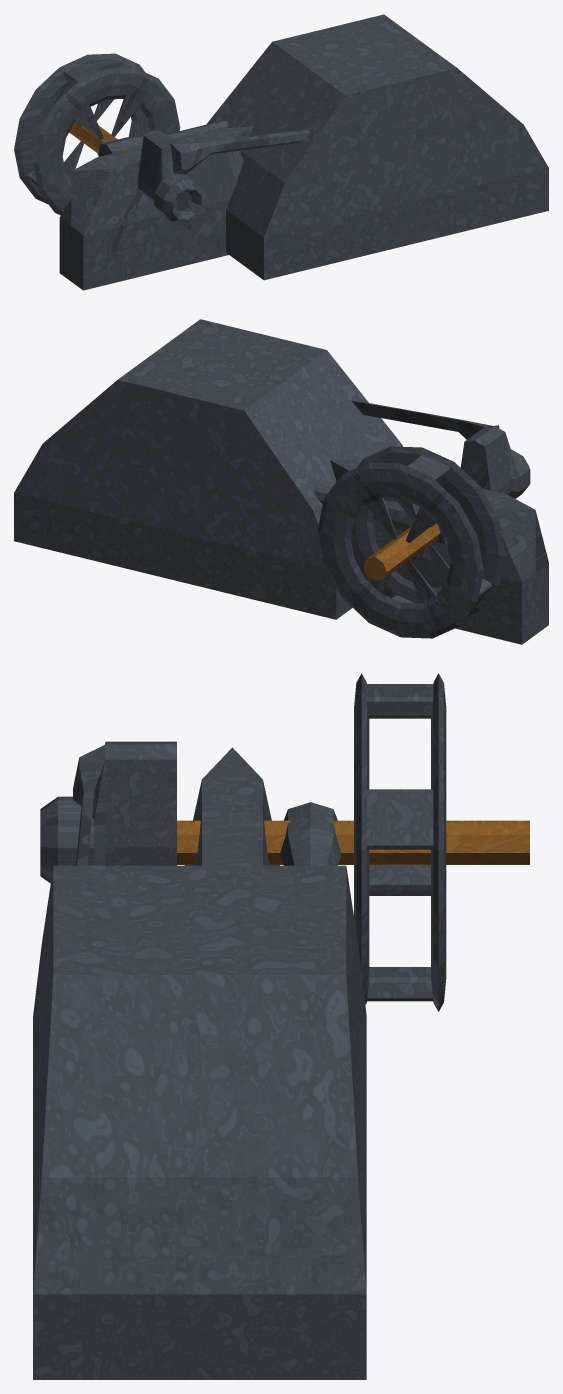
File: steam_machine.fbx
3 renders of one model, top to bottom at view 1: azimuth 30°, elevation 25°; view 2: azimuth 150°, elevation 25°; view 3: azimuth 270°, elevation 25°, orthographic. The views are drawn at different scales.
Parts seen in each view (by area): view 1: Cube.002; view 2: Cube.002; view 3: Cube.002.
Part boxes in pixels (<box>): Cube.002: <box>14,14,548,290</box>; Cube.002: <box>14,319,548,644</box>; Cube.002: <box>33,673,529,1379</box>.
Size of the model in its own units: 3275 by 1248 by 1625.
2 materials, 2 textured.
